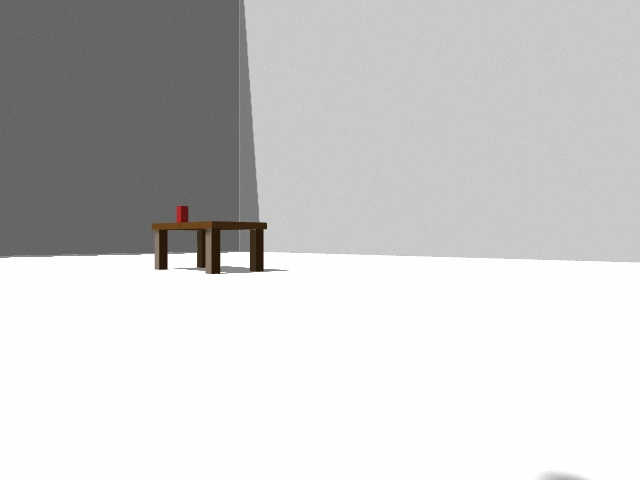red_cube: (177, 206, 181, 223)
